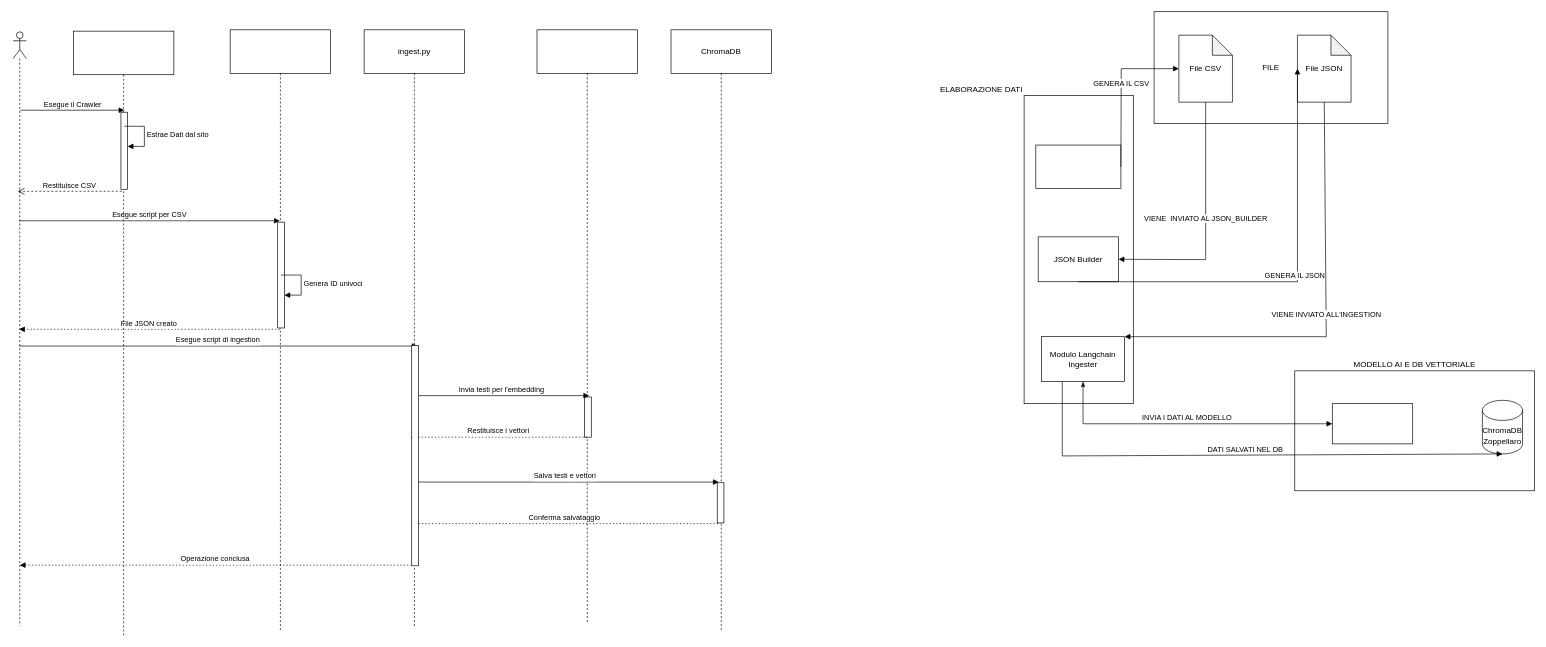
Some shapes in this 1546 by 647 pixel diagram are drawn without their labels. The shapes that lost their labels are listed below. From the top down, each one's box as (x1, y1, x2, y2) in pixels, then its label:
(1035, 144, 1121, 189): Crawler
(73, 30, 174, 635): "Crawler.py"
(229, 29, 331, 631): Json_builder.py
(536, 29, 638, 622): all-MiniLM-L6-v2
(1332, 403, 1413, 444): Modello Embedding (all-MiniLM-L6-v2)
